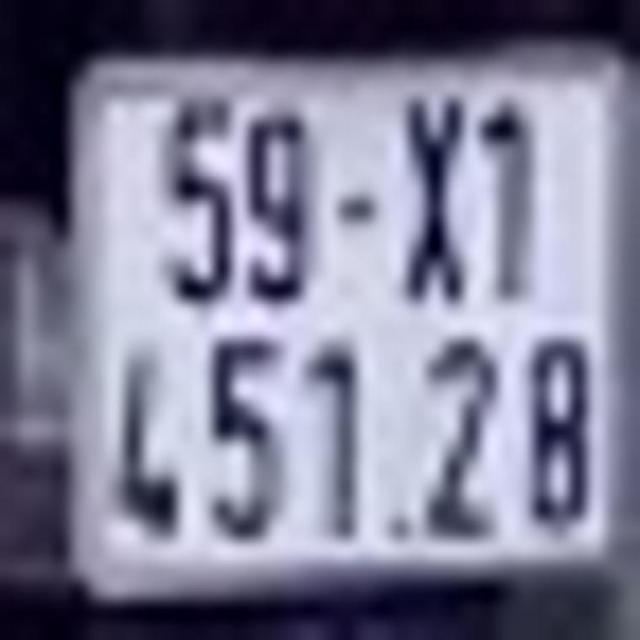1: (480, 103, 536, 307), (303, 346, 356, 537)
2: (424, 337, 501, 545)
4: (119, 350, 181, 540)
5: (210, 335, 283, 539), (166, 95, 231, 305)
8: (528, 328, 589, 547)
9: (242, 111, 312, 307)
X: (398, 89, 462, 306)
